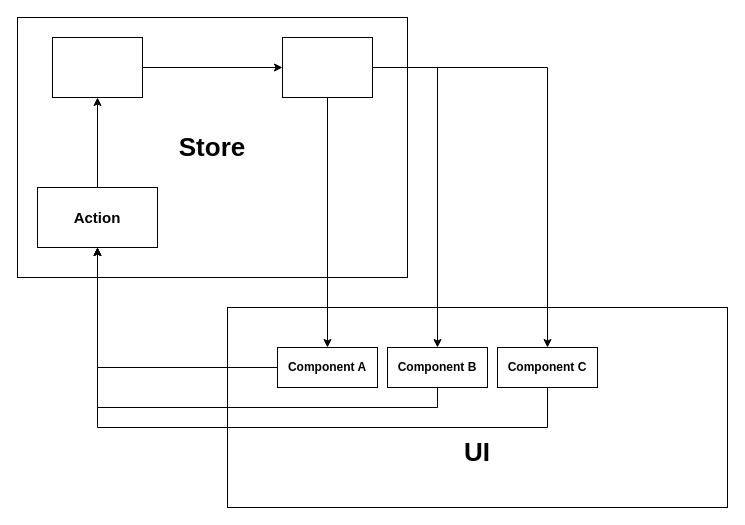
The diagram is 745 pixels wide and 525 high, and some of its shapes have lost their labels. The shapes that lost their labels are listed below. From the top down, each one's centre as x and y in pixels, then its label:
point (97, 67): Reducer
point (327, 67): State
